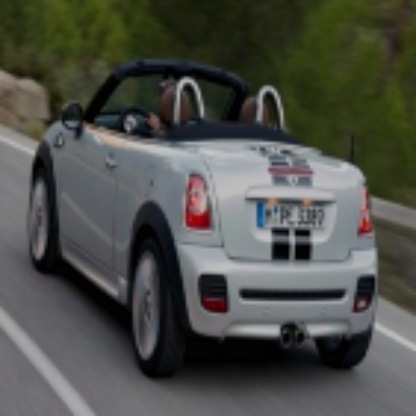Vehicle: (28, 58, 379, 380)
